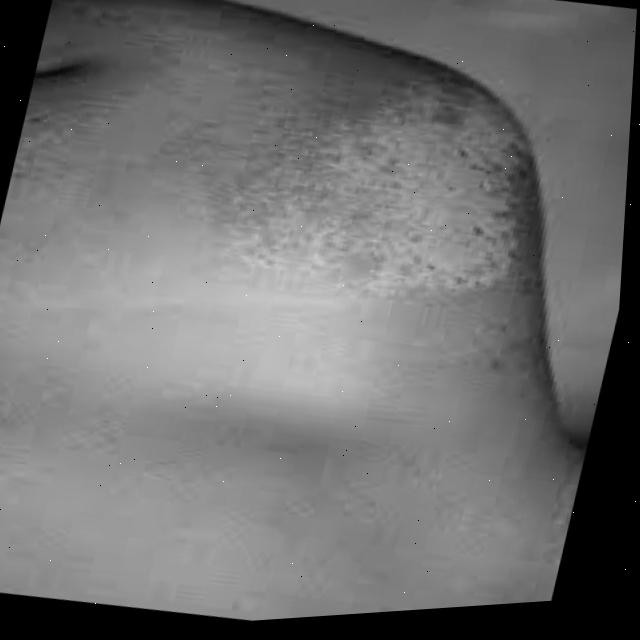Eczema: (239, 45, 545, 336)
